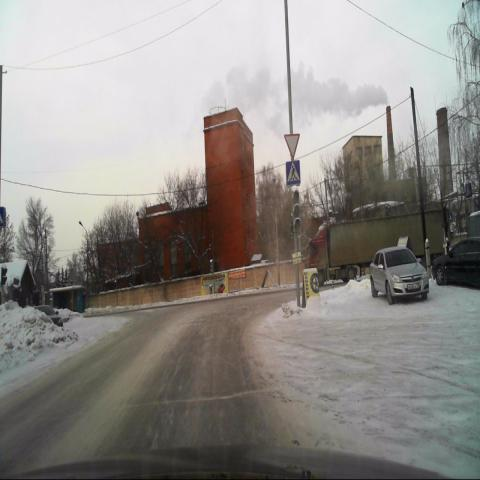2_4: (284, 133, 300, 159)
5_19_1: (286, 160, 300, 185)
